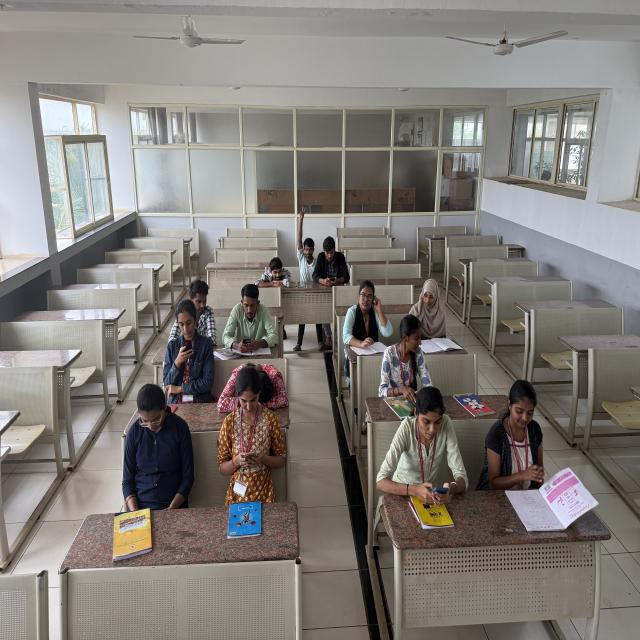Hand Rising: (288, 200, 319, 287)
Using Phone: (362, 380, 478, 537), (215, 366, 292, 518), (155, 297, 221, 405), (218, 282, 279, 364), (312, 220, 354, 288)
Writing: (480, 364, 594, 536)
